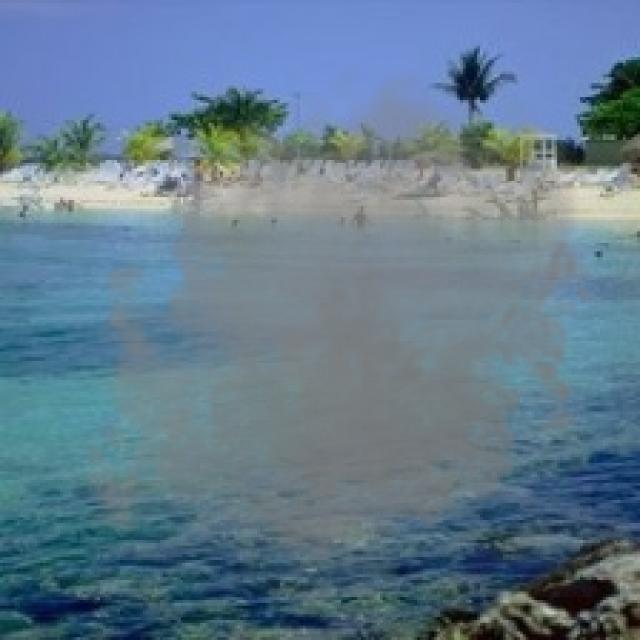Smoke: (68, 52, 603, 598)
